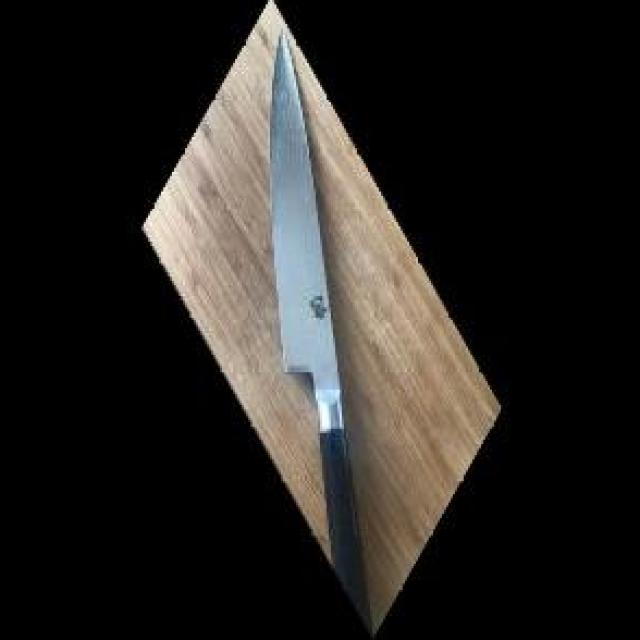knife: (259, 30, 374, 640)
